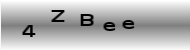4: (21, 23, 37, 39)
B: (79, 12, 95, 26)
Z: (49, 9, 66, 23)
e: (120, 19, 135, 30), (102, 21, 116, 31)
